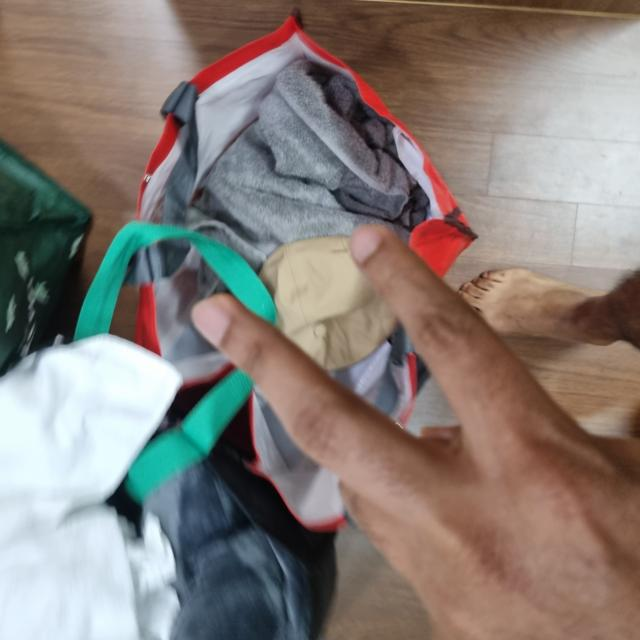Scissors: (0, 192, 415, 639)
